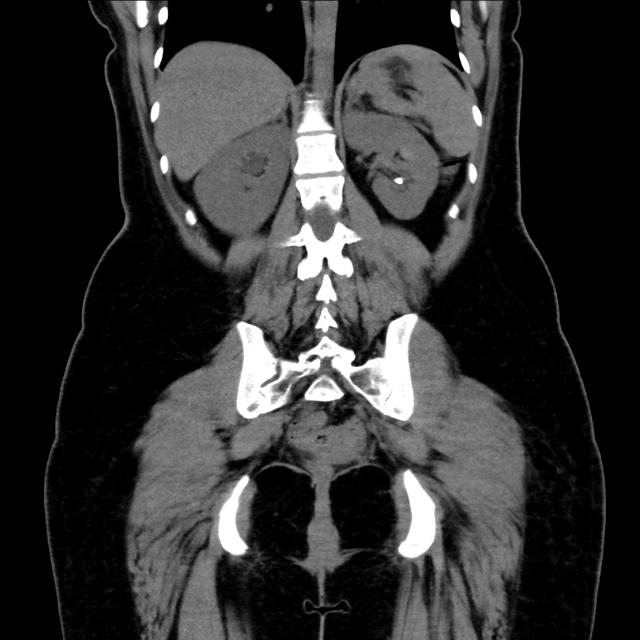kidneystone: (394, 177, 404, 185)
